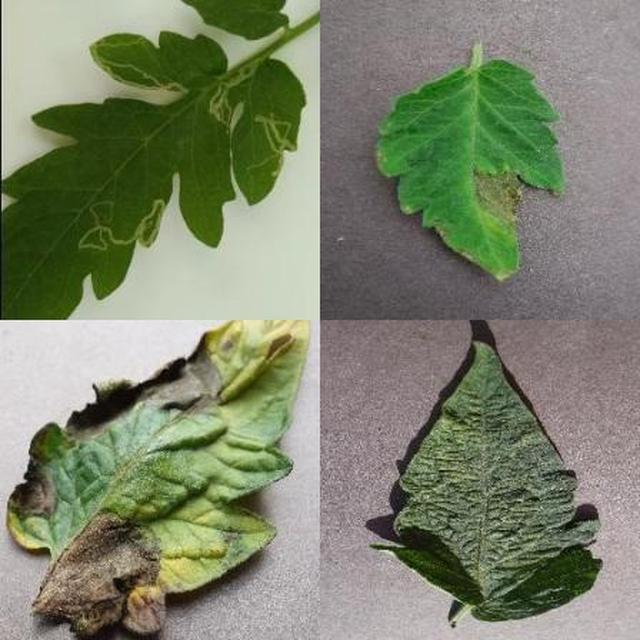Leaf Miner: (220, 243, 640, 640)
